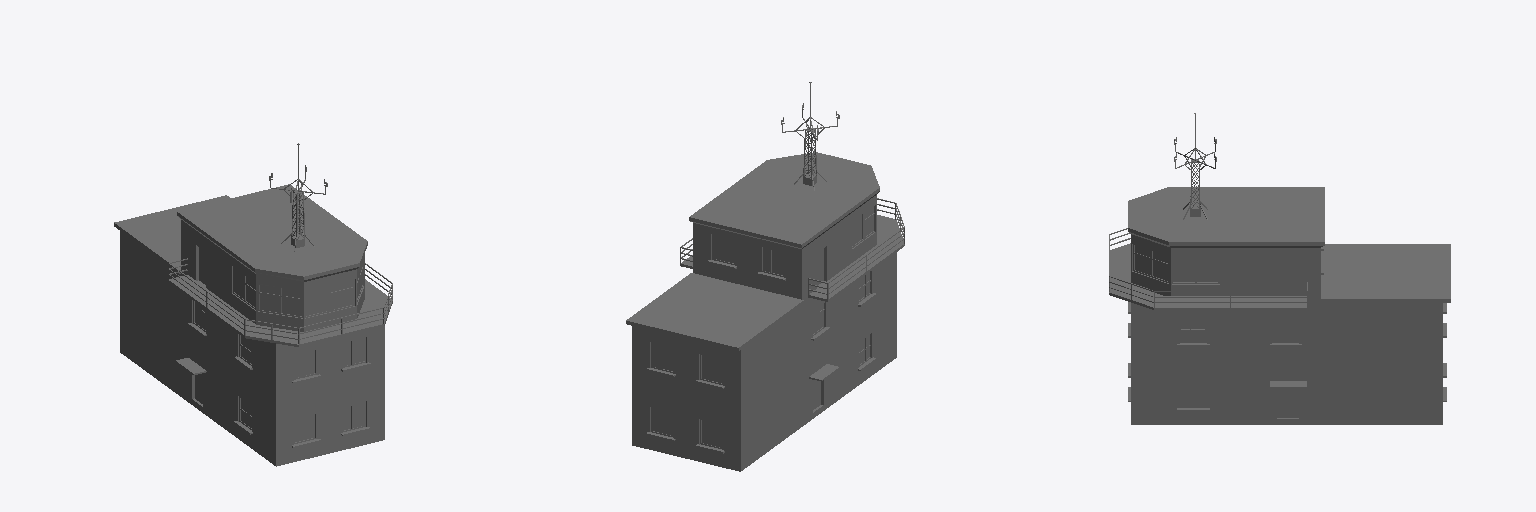
The model's file is tower.obj.
3 renders of one model, left to right at view 1: azimuth 30°, elevation 25°; view 2: azimuth 150°, elevation 25°; view 3: azimuth 270°, elevation 25°, orthographic.
Visible parts, largest first — view 1: tower:Mesh; view 2: tower:Mesh; view 3: tower:Mesh.
Part boxes in pixels (bbox=[...]): tower:Mesh: bbox=[114, 143, 392, 466]; tower:Mesh: bbox=[626, 82, 904, 471]; tower:Mesh: bbox=[1109, 113, 1450, 424].
Bounding box in the file's own units: 71.67 × 132 × 144.